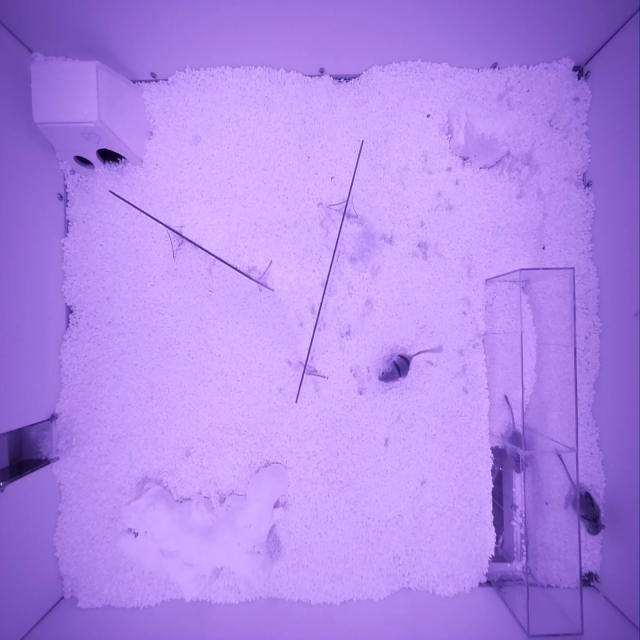adult_back: (570, 490, 605, 536)
pup_fluffy: (506, 430, 528, 473)
pup_h_stripe: (378, 353, 411, 383)
